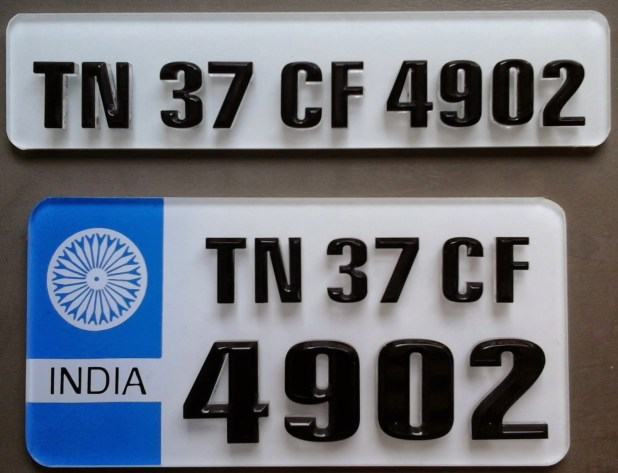number_plate: (26, 194, 573, 466), (4, 10, 611, 150)
